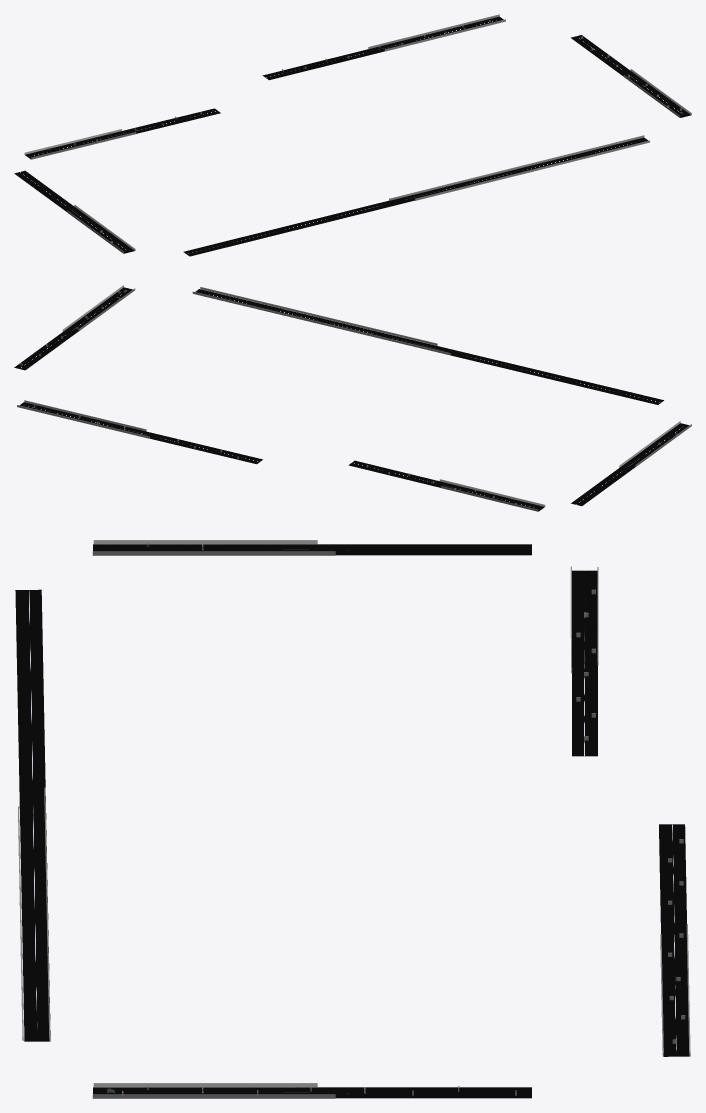
Rendered from carRoad3.glb.
3 renders of one model, top to bottom at view 1: azimuth 30°, elevation 25°; view 2: azimuth 150°, elevation 25°; view 3: azimuth 270°, elevation 25°, orthographic. The views are drawn at different scales.
Parts seen in each view (by area): view 1: Plane.006, Plane.001, Plane.002, Plane.007, Plane, Cube.019, Cube.020, Cube.018, Cube.017; view 2: Plane.006, Plane.001, Plane.002, Plane.007, Plane, Cube.019, Cube.020, Cube.018, Cube.017, Cube.006; view 3: Plane.006, Plane.001, Plane.007, Plane, Plane.002, Cube.003, Cube.022, Cube.004, Cube.021.
Boxes of the visible parts, <box> form: Plane.006: <box>183,137,647,256</box>; Plane.001: <box>262,16,503,80</box>; Plane.002: <box>25,108,220,159</box>; Plane.007: <box>14,170,134,253</box>; Plane: <box>571,35,690,117</box>; Cube.019: <box>389,135,644,200</box>; Cube.020: <box>415,140,649,200</box>; Cube.018: <box>389,135,643,200</box>; Cube.017: <box>415,140,649,200</box>; Plane.006: <box>195,289,663,404</box>; Plane.001: <box>20,402,262,464</box>; Plane.002: <box>348,460,544,511</box>; Plane.007: <box>571,423,690,506</box>; Plane: <box>14,287,134,370</box>; Cube.019: <box>192,291,450,354</box>; Cube.020: <box>200,287,437,345</box>; Cube.018: <box>193,292,450,354</box>; Cube.017: <box>200,287,437,345</box>; Cube.006: <box>17,405,149,438</box>; Plane.006: <box>15,589,50,1041</box>; Plane.001: <box>659,824,689,1056</box>; Plane.007: <box>93,544,531,555</box>; Plane: <box>93,1087,531,1098</box>; Plane.002: <box>572,570,597,756</box>; Cube.003: <box>92,1094,335,1098</box>; Cube.022: <box>92,551,335,555</box>; Cube.004: <box>93,1083,317,1087</box>; Cube.021: <box>93,540,317,544</box>.
Size of the model in its own units: 600 by 2.06 by 309.
Materials: 34 (34 with a texture image).
